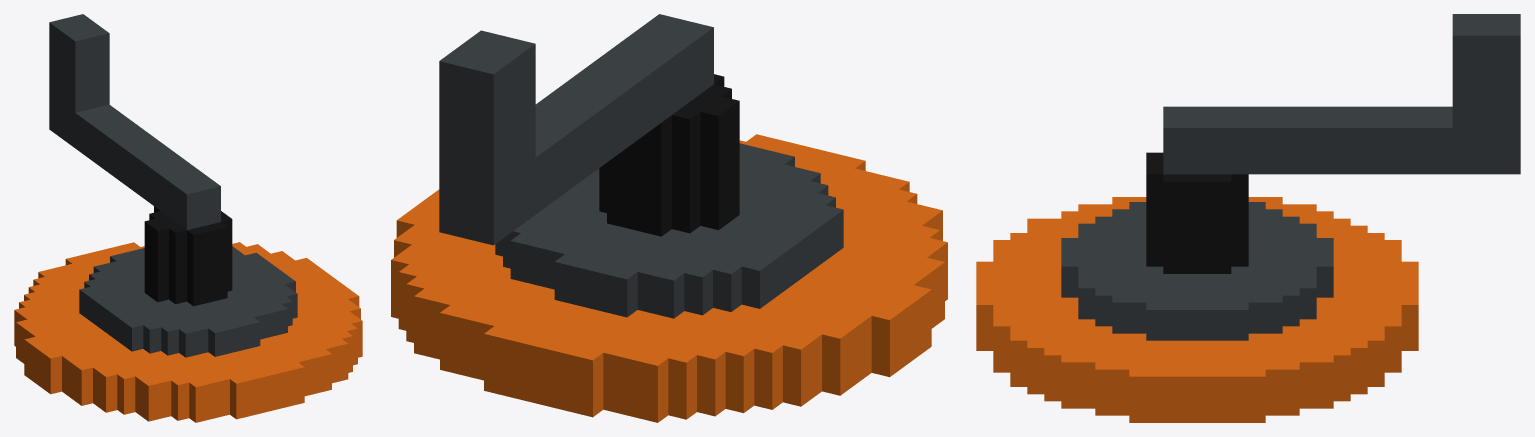
Rendered from street_sweeper_gutter_brush.glb.
The picture shows the model from 3 angles, left to right: view 1: azimuth 30°, elevation 25°; view 2: azimuth 150°, elevation 25°; view 3: azimuth 270°, elevation 25°; orthographic projection. The views are drawn at different scales.
Parts seen in each view (by area): view 1: body:compound; view 2: body:compound; view 3: body:compound.
Boxes of the visible parts, x1,y1,x2,y2 form: body:compound: (14, 14, 362, 422); body:compound: (391, 14, 947, 422); body:compound: (976, 14, 1520, 422).
Size of the model in its own units: 0.8125 by 0.625 by 1.
